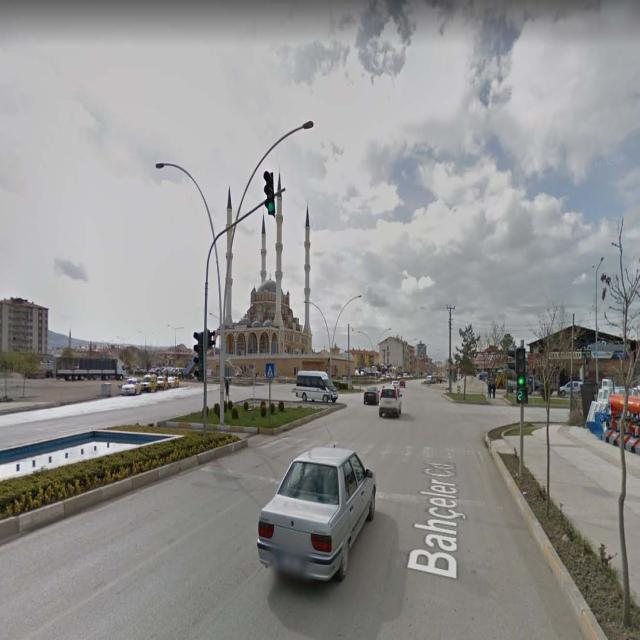yesil: (265, 172, 275, 214), (517, 349, 525, 387)
